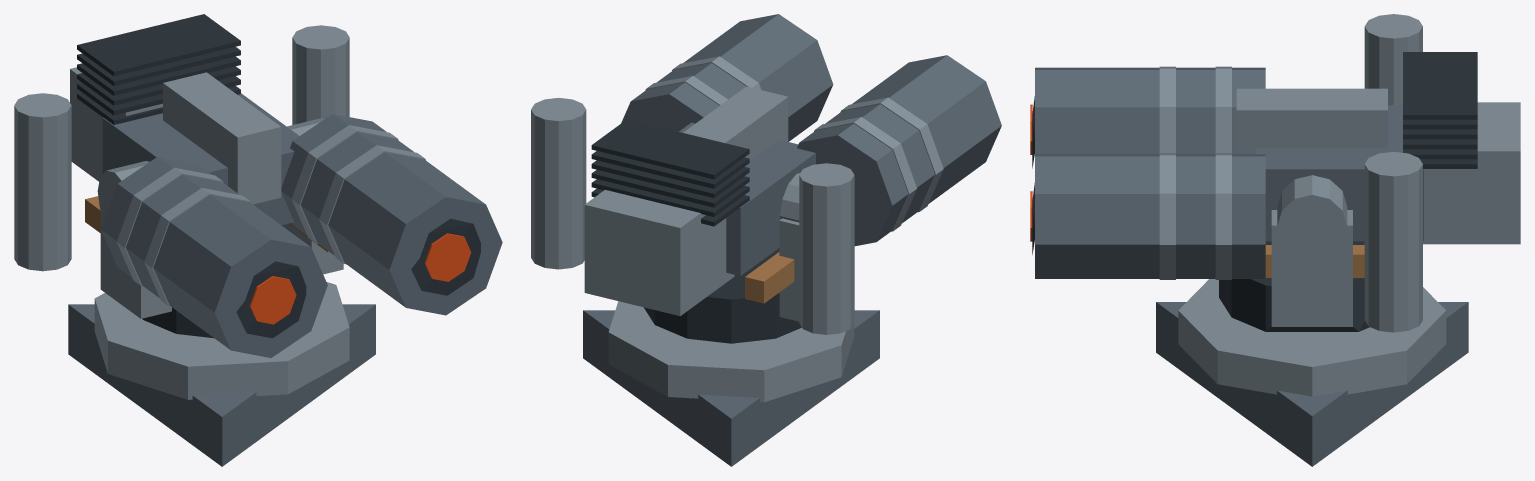
File: kiln_t2_d0.meshopt.glb
3 views of the same model, side by side, from view 1: azimuth 30°, elevation 25°; view 2: azimuth 150°, elevation 25°; view 3: azimuth 270°, elevation 25° (orthographic). The views are drawn at different scales.
Visible parts, largest first — view 1: ROOT_ARMOR_GEOMETRY; view 2: ROOT_ARMOR_GEOMETRY; view 3: ROOT_ARMOR_GEOMETRY.
Boxes of the visible parts, box(x1,y1,x2,y2) form: ROOT_ARMOR_GEOMETRY: box(14, 14, 502, 466); ROOT_ARMOR_GEOMETRY: box(531, 14, 1001, 466); ROOT_ARMOR_GEOMETRY: box(1030, 14, 1520, 466).
Bounding box in the file's own units: 1.65 × 1.46 × 2.11.
